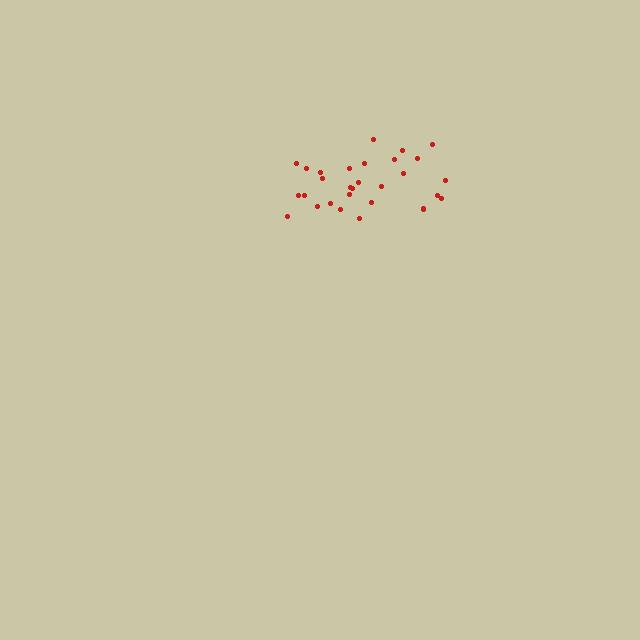abrasion: (274, 135, 446, 218)
